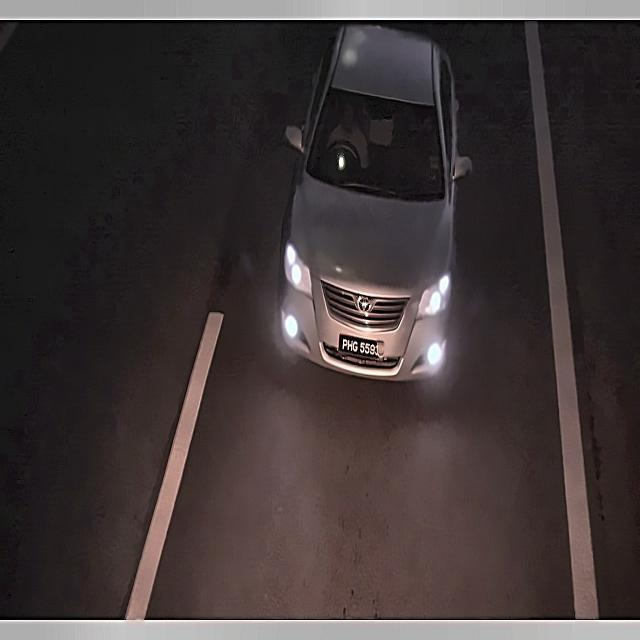car: (336, 330, 386, 364)
